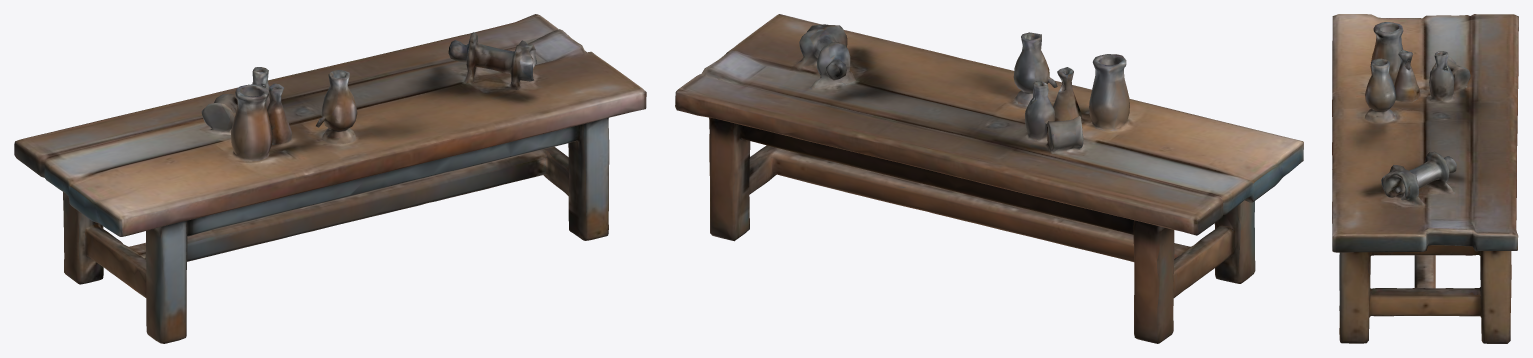
File: workbench.glb
3 renders of one model, left to right at view 1: azimuth 30°, elevation 25°; view 2: azimuth 150°, elevation 25°; view 3: azimuth 270°, elevation 25°, orthographic. The views are drawn at different scales.
Visible parts, largest first — view 1: model; view 2: model; view 3: model.
Boxes of the visible parts, x1=… form: model: x1=14, y1=14, x2=646, y2=343; model: x1=675, y1=14, x2=1303, y2=343; model: x1=1332, y1=14, x2=1518, y2=343.
Size of the model in its own units: 2 by 0.7512 by 0.7122.
1 material, 1 textured.
